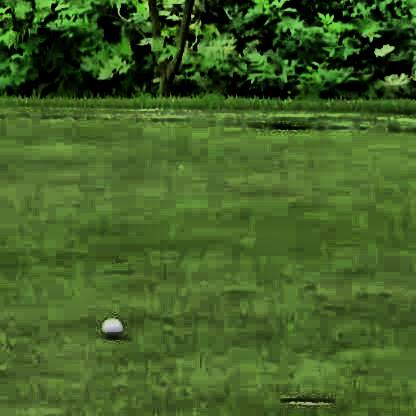golfball: (98, 314, 121, 337)
